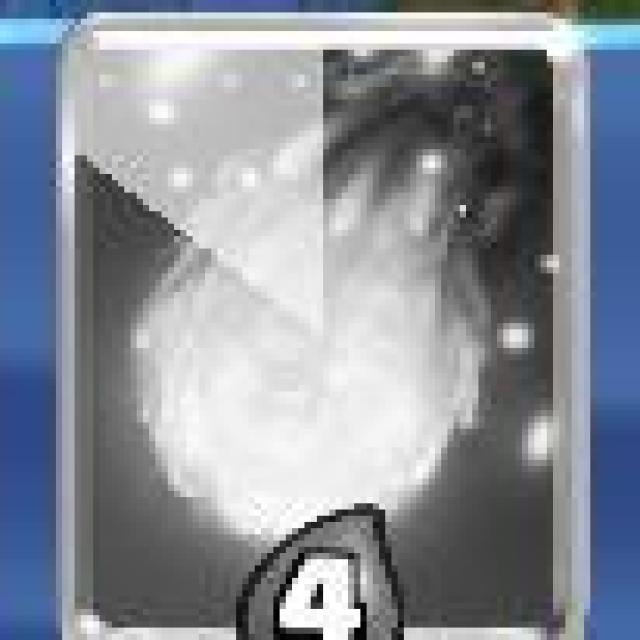Fireball: (56, 13, 586, 640)
